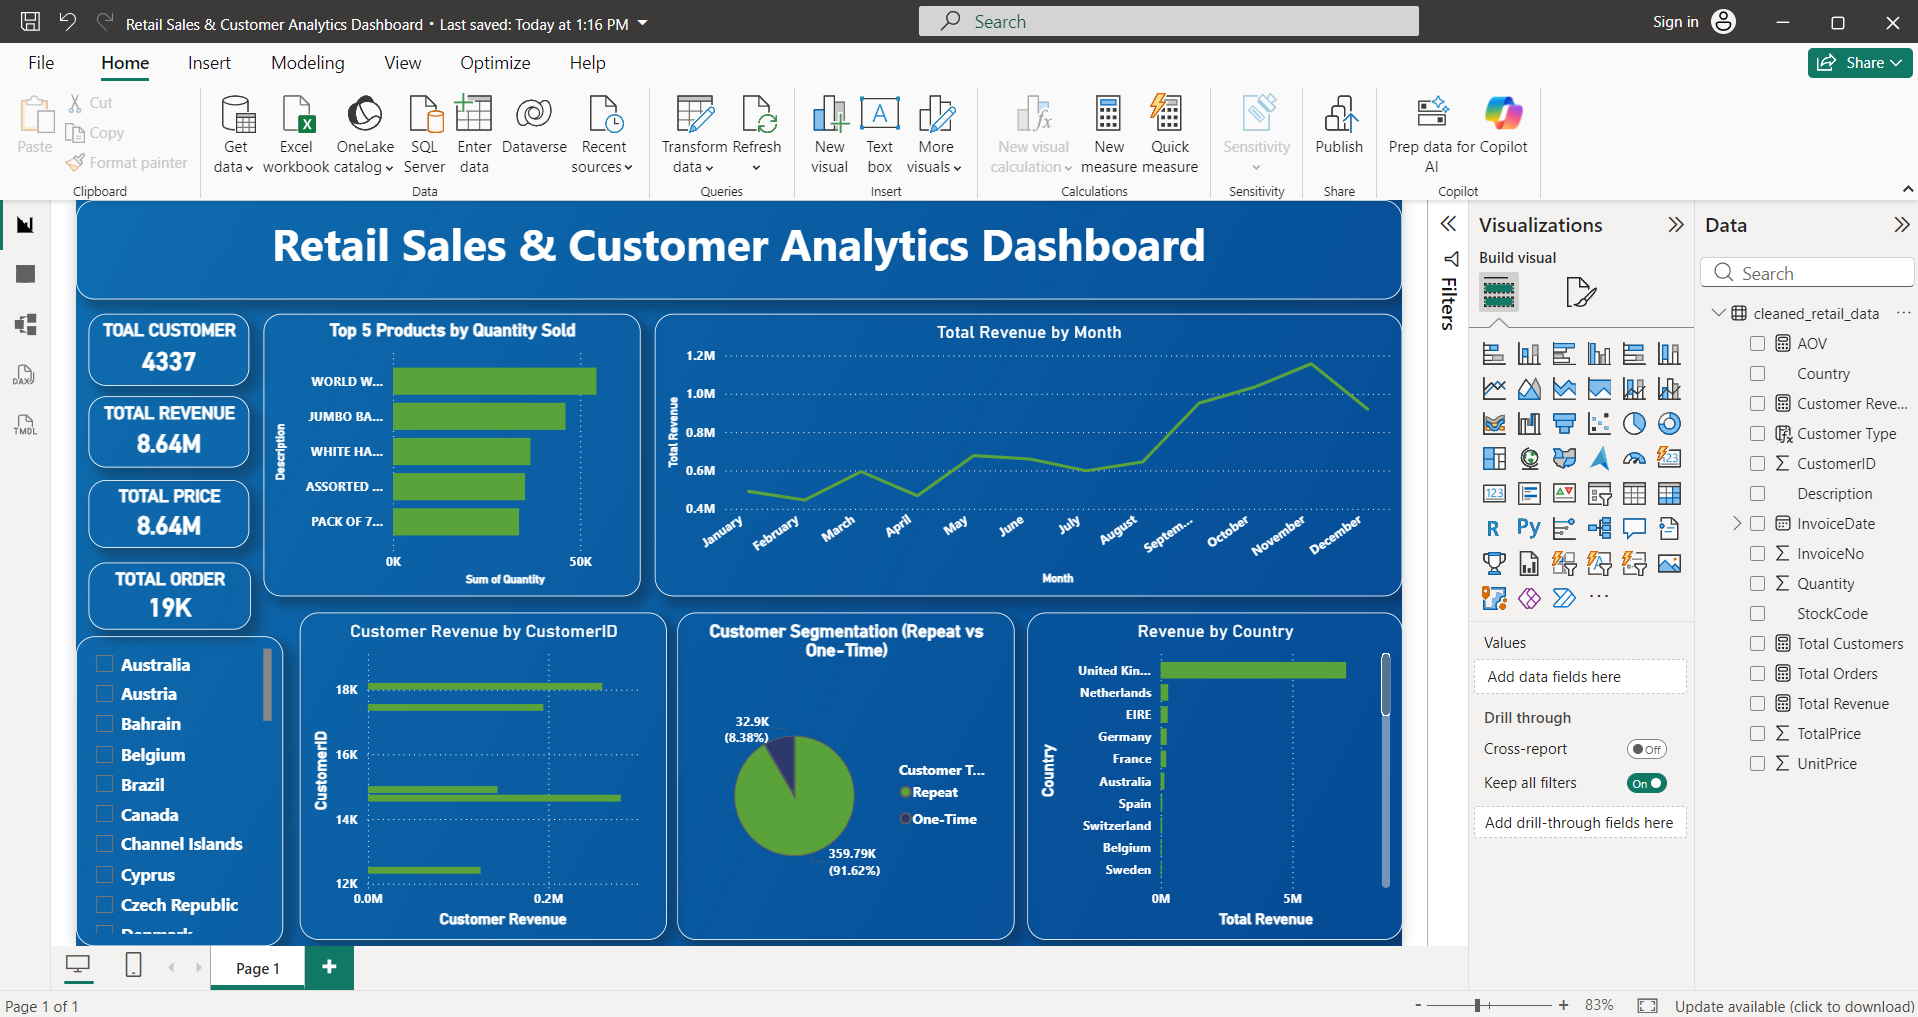

The dashboard page shown, as its layout file describes it:
{"tool":"powerbi","page":{"name":"Page 1","canvas":[1280,720],"ordinal":0},"visuals":[{"type":"card","title":"TOAL CUSTOMER ","fields":{"Values":["cleaned_retail_data.Total Customers"]},"box":[12.3,109.8,155.1,70],"z":0},{"type":"textbox","box":[0,0,1280.3,96.1],"z":1000},{"type":"card","title":"TOTAL ORDER","fields":{"Values":["cleaned_retail_data.Total Orders"]},"box":[12.3,349.9,156.4,64.5],"z":2000},{"type":"card","title":"TOTAL REVENUE","fields":{"Values":["cleaned_retail_data.Total Revenue"]},"box":[12.3,189.4,155.1,68.6],"z":3000},{"type":"card","title":"TOTAL PRICE","fields":{"Values":["Sum(cleaned_retail_data.TotalPrice)"]},"box":[12.3,270.3,155.1,65.9],"z":4000},{"type":"lineChart","fields":{"Category":["cleaned_retail_data.InvoiceDate.Variation.Date Hierarchy.Month"],"Y":["cleaned_retail_data.Total Revenue"]},"box":[558.5,109.8,721.8,273.1],"z":5000},{"type":"barChart","title":"Revenue by Country","fields":{"Y":["cleaned_retail_data.Total Revenue"],"Category":["cleaned_retail_data.Country"]},"box":[918,397.9,362.3,315.6],"z":5001},{"type":"clusteredBarChart","title":"Top 5 Products by Quantity Sold","fields":{"Category":["cleaned_retail_data.Description"],"Y":["Sum(cleaned_retail_data.Quantity)"]},"box":[181.1,109.8,363.6,273.1],"z":5002},{"type":"pieChart","title":"Customer Segmentation (Repeat vs One-Time)","fields":{"Y":["CountNonNull(cleaned_retail_data.CustomerID)"],"Category":["cleaned_retail_data.Customer Type"]},"box":[580.4,397.9,325.2,315.6],"z":5003},{"type":"clusteredBarChart","fields":{"Y":["cleaned_retail_data.Customer Revenue"],"Category":["cleaned_retail_data.CustomerID"]},"box":[215.4,397.9,354,315.6],"z":5005},{"type":"slicer","fields":{"Values":["cleaned_retail_data.Country"]},"box":[0,421.3,200.3,299.1],"z":5006}]}

Visuals, with their boxes on the page's 1280x720 design canvas (x1, y1, x2, y2). These are canvas units, not pixel positions in the 1918x1017 screenshot, which may show the page scaled, cropped or inside an application window:
"TOAL CUSTOMER " card: bbox=(12, 110, 167, 180)
textbox: bbox=(0, 0, 1280, 96)
"TOTAL ORDER" card: bbox=(12, 350, 169, 414)
"TOTAL REVENUE" card: bbox=(12, 189, 167, 258)
"TOTAL PRICE" card: bbox=(12, 270, 167, 336)
lineChart - cleaned_retail_data.InvoiceDate.Variation.Date Hierarchy.Month x cleaned_retail_data.Total Revenue: bbox=(558, 110, 1280, 383)
"Revenue by Country" barChart: bbox=(918, 398, 1280, 714)
"Top 5 Products by Quantity Sold" clusteredBarChart: bbox=(181, 110, 545, 383)
"Customer Segmentation (Repeat vs One-Time)" pieChart: bbox=(580, 398, 906, 714)
clusteredBarChart - cleaned_retail_data.Customer Revenue x cleaned_retail_data.CustomerID: bbox=(215, 398, 569, 714)
slicer - cleaned_retail_data.Country: bbox=(0, 421, 200, 720)
